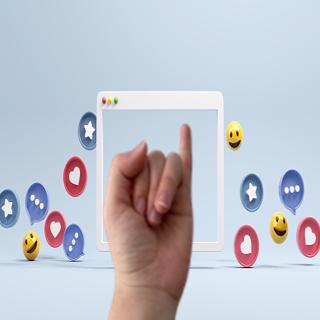Fine: (97, 124, 204, 308)
